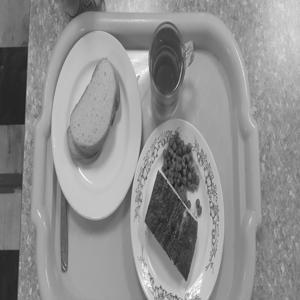bread: (58, 48, 124, 171)
casserole: (136, 133, 212, 281)
tea: (138, 18, 195, 116)
